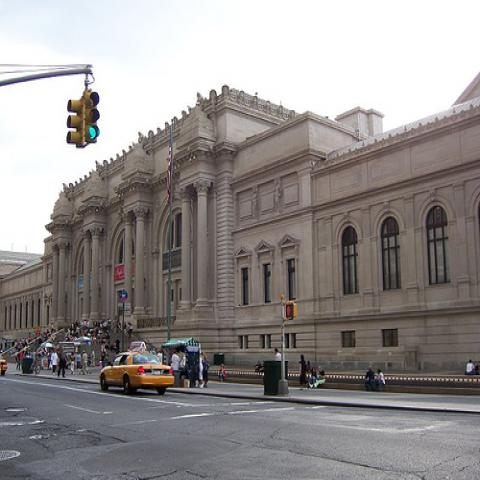car: (99, 350, 175, 397)
